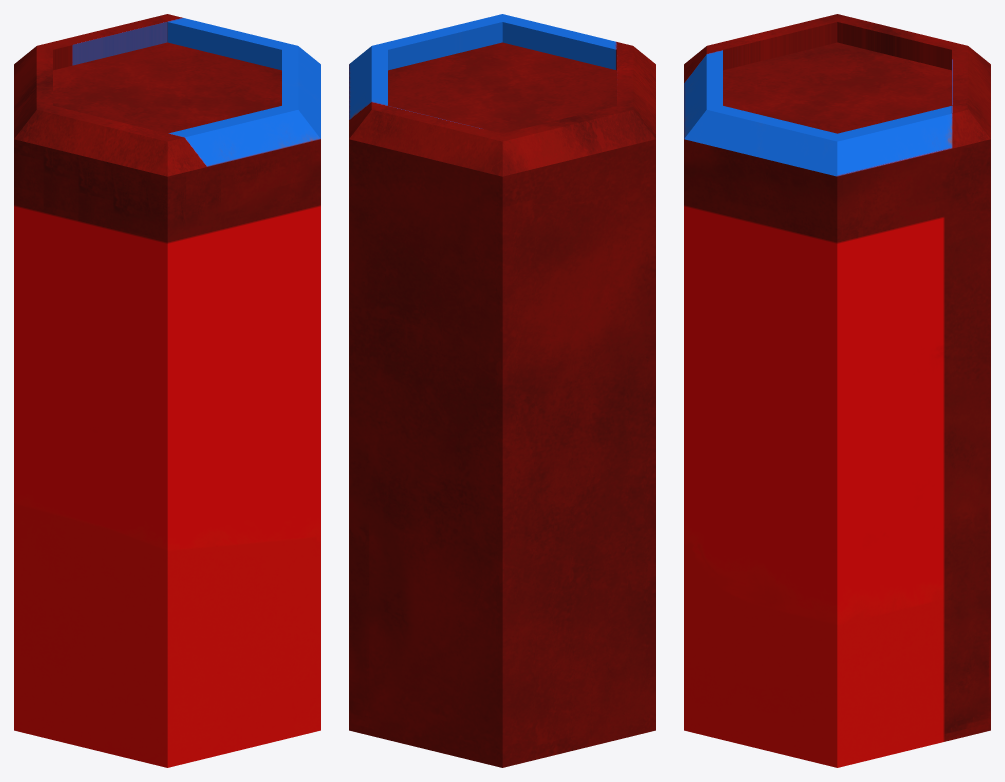
File: PillarUpdate.FBX
3 views of the same model, side by side, from view 1: azimuth 30°, elevation 25°; view 2: azimuth 150°, elevation 25°; view 3: azimuth 270°, elevation 25° (orthographic).
Visible parts, largest first — view 1: Cylinder001; view 2: Cylinder001; view 3: Cylinder001.
Boxes of the visible parts, x1,y1,x2,y2 form: Cylinder001: (14,14,320,767); Cylinder001: (349,14,655,767); Cylinder001: (684,14,990,767).
Size of the model in its own units: 49.51 by 42.87 by 94.82.
Materials: 1 (1 with a texture image).
